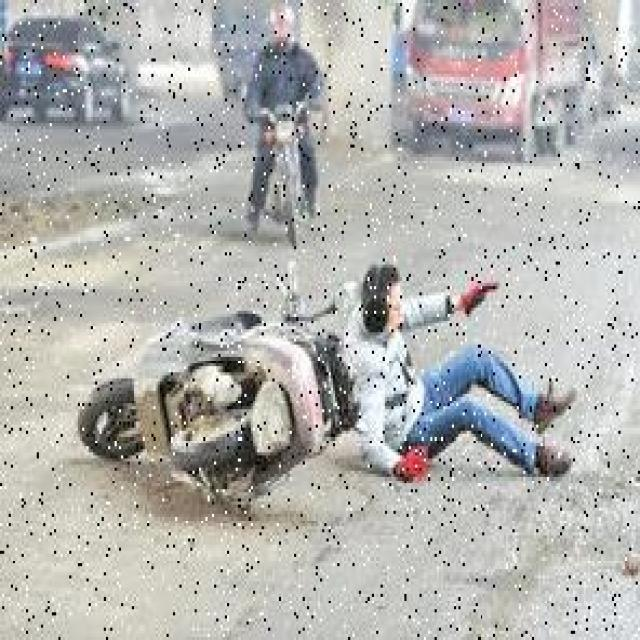fall: (352, 262, 580, 483)
